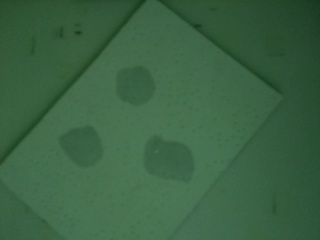Water_detected: (156, 146, 190, 176), (72, 126, 97, 163), (122, 73, 143, 101)
